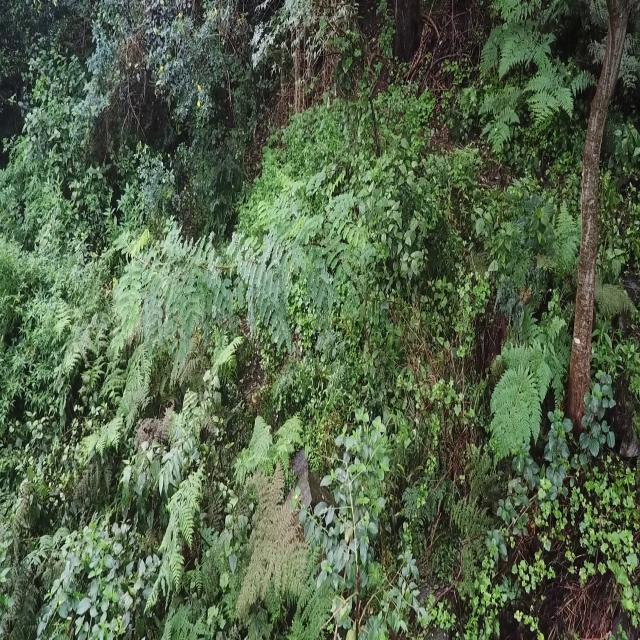Mysore-Thorn-Weed: (109, 187, 381, 356)
